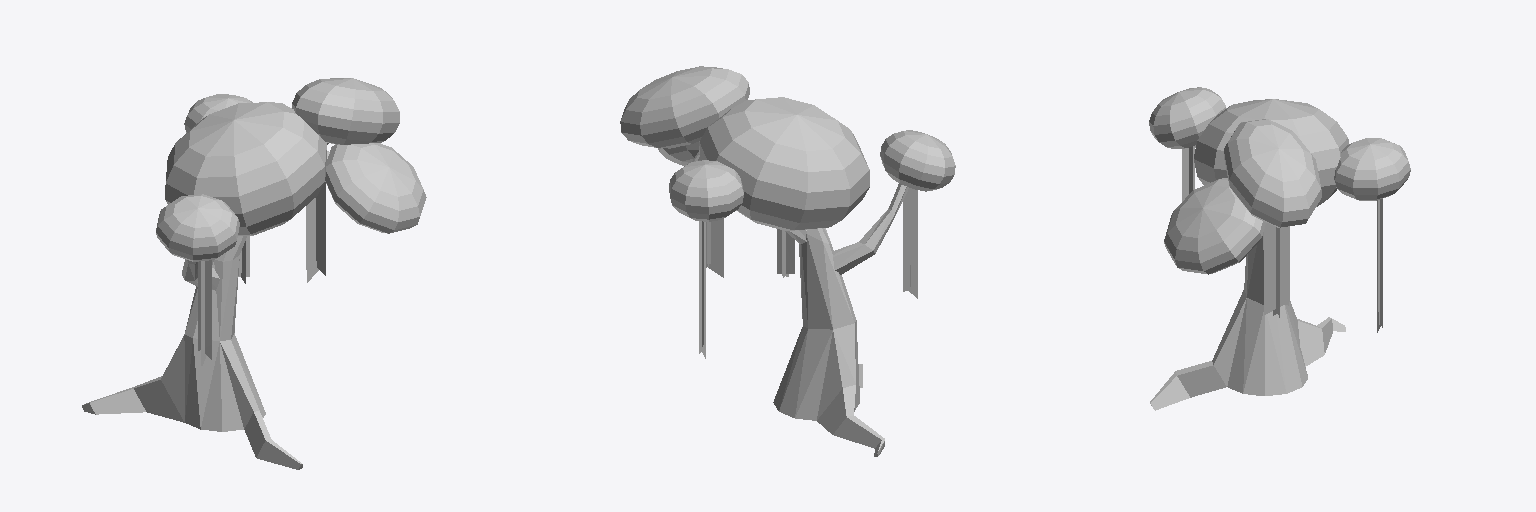
Rendered from WoWTree.obj.
3 views of the same model, side by side, from view 1: azimuth 30°, elevation 25°; view 2: azimuth 150°, elevation 25°; view 3: azimuth 270°, elevation 25° (orthographic).
Parts seen in each view (by area): view 1: Plane.002; view 2: Plane.002; view 3: Plane.002.
Part boxes in pixels (x1,y1,x2,y2): Plane.002: (82,78,426,469); Plane.002: (620,66,955,456); Plane.002: (1149,87,1410,410).
Bounding box in the file's own units: 6.2 × 6.77 × 4.95.